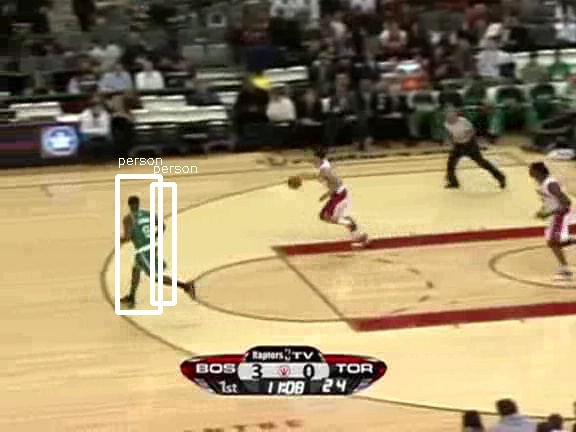person: (128, 204, 162, 285), (127, 204, 161, 285), (129, 204, 163, 285), (128, 203, 162, 284), (128, 205, 162, 286)
target_negative: (104, 101, 286, 275), (199, 120, 307, 251), (35, 234, 201, 281), (545, 7, 562, 265), (439, 6, 571, 17), (90, 298, 495, 299)
